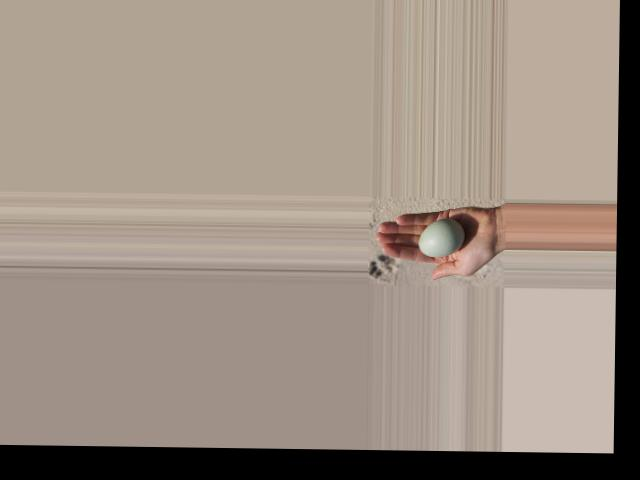egg: (419, 217, 463, 256)
